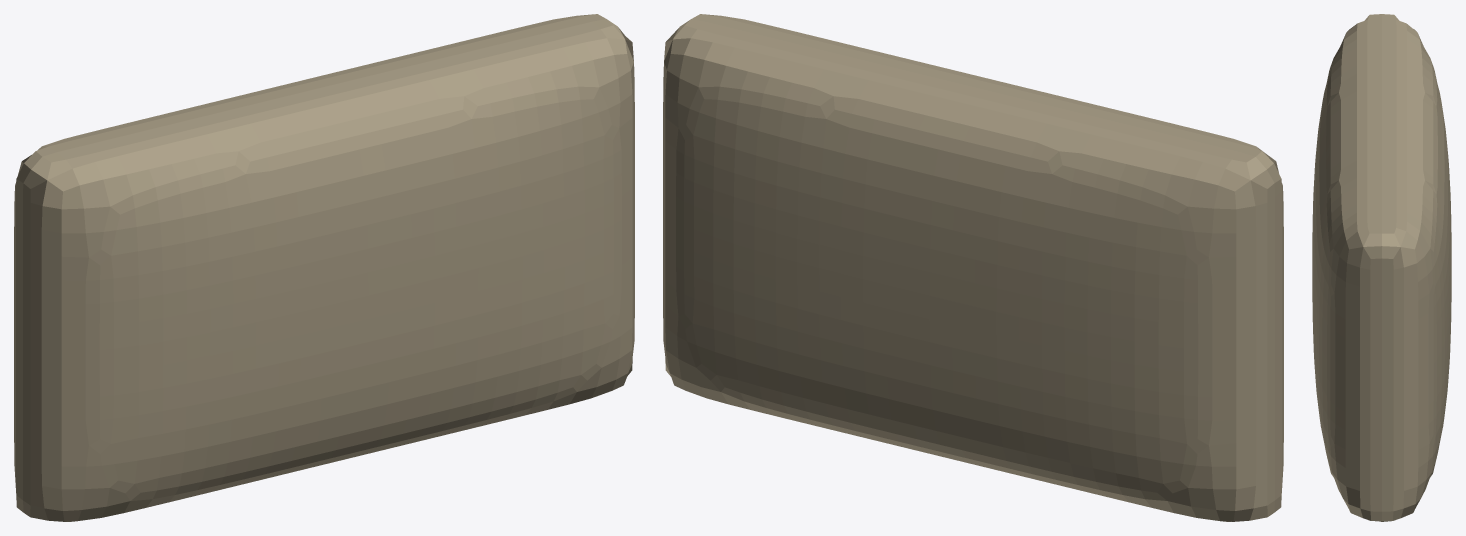
Rendered from HIN-LMB-std.glb.
3 views of the same model, side by side, from view 1: azimuth 30°, elevation 25°; view 2: azimuth 150°, elevation 25°; view 3: azimuth 270°, elevation 25° (orthographic). The views are drawn at different scales.
Visible parts, largest first — view 1: pillow-lumbar:pbr; view 2: pillow-lumbar:pbr; view 3: pillow-lumbar:pbr.
Boxes of the visible parts, x1,y1,x2,y2 form: pillow-lumbar:pbr: [14, 14, 634, 521]; pillow-lumbar:pbr: [663, 14, 1283, 521]; pillow-lumbar:pbr: [1312, 14, 1451, 521].
Bounding box in the file's own units: 0.5426 × 0.3135 × 0.1362.
